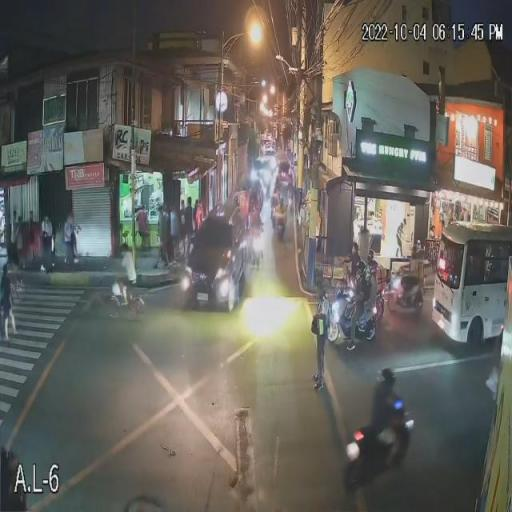motorcycle: (342, 398, 416, 492), (324, 284, 378, 347), (386, 274, 425, 315), (271, 207, 287, 246)
rider: (367, 368, 410, 458), (348, 257, 375, 324), (270, 194, 286, 226)
